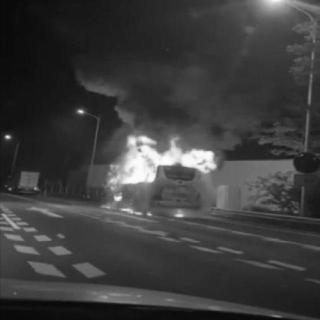Fire: (99, 131, 219, 221)
Smoke: (41, 7, 261, 139)
other: (2, 128, 26, 150)
